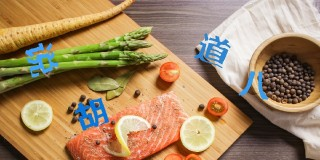八: (238, 71, 268, 99)
胡: (74, 98, 109, 130)
说: (25, 42, 59, 77)
道: (194, 33, 231, 69)
